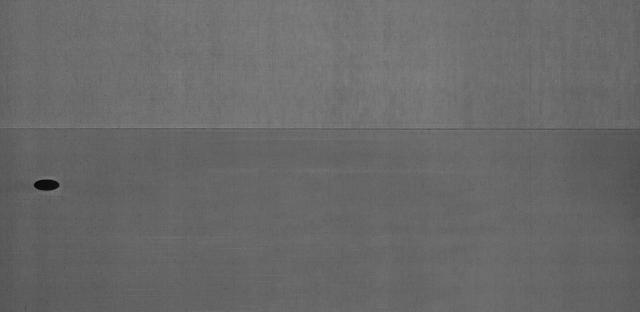punching_hole: (29, 177, 66, 194)
welding_line: (3, 119, 637, 139)
